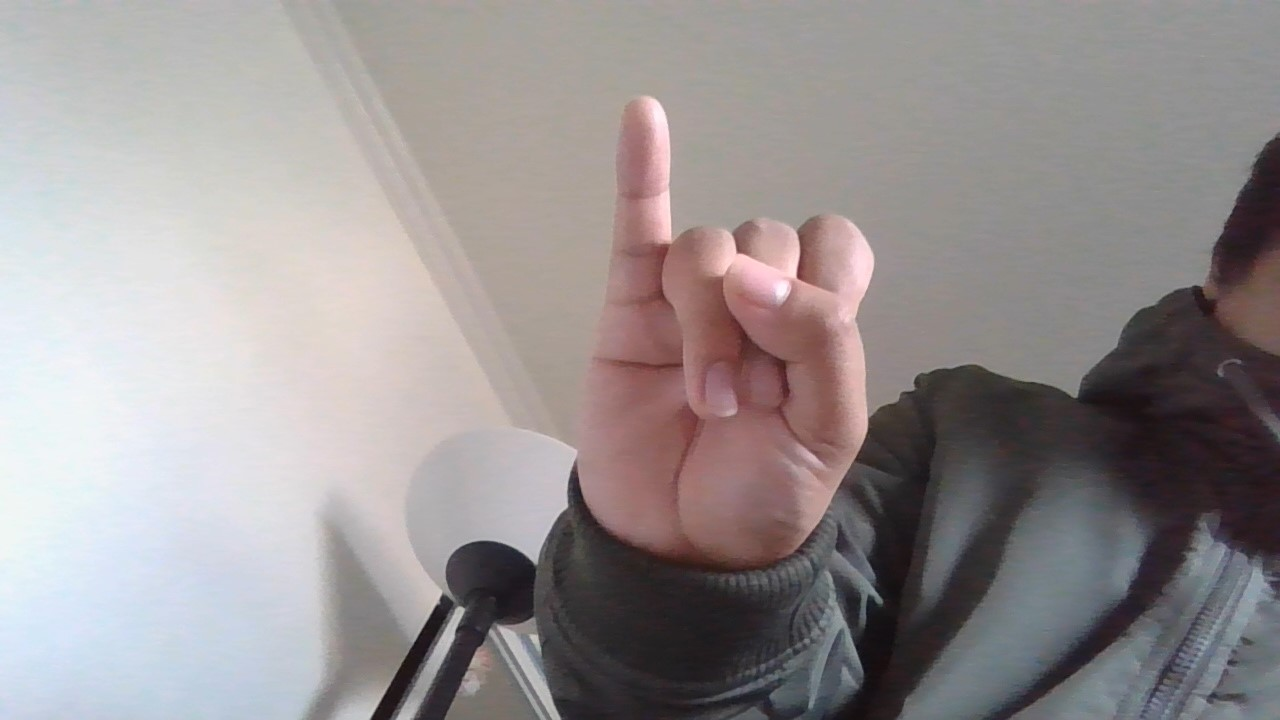i: (542, 74, 906, 605)
